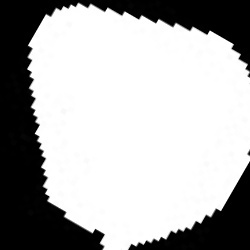spot: (27, 4, 249, 247)
